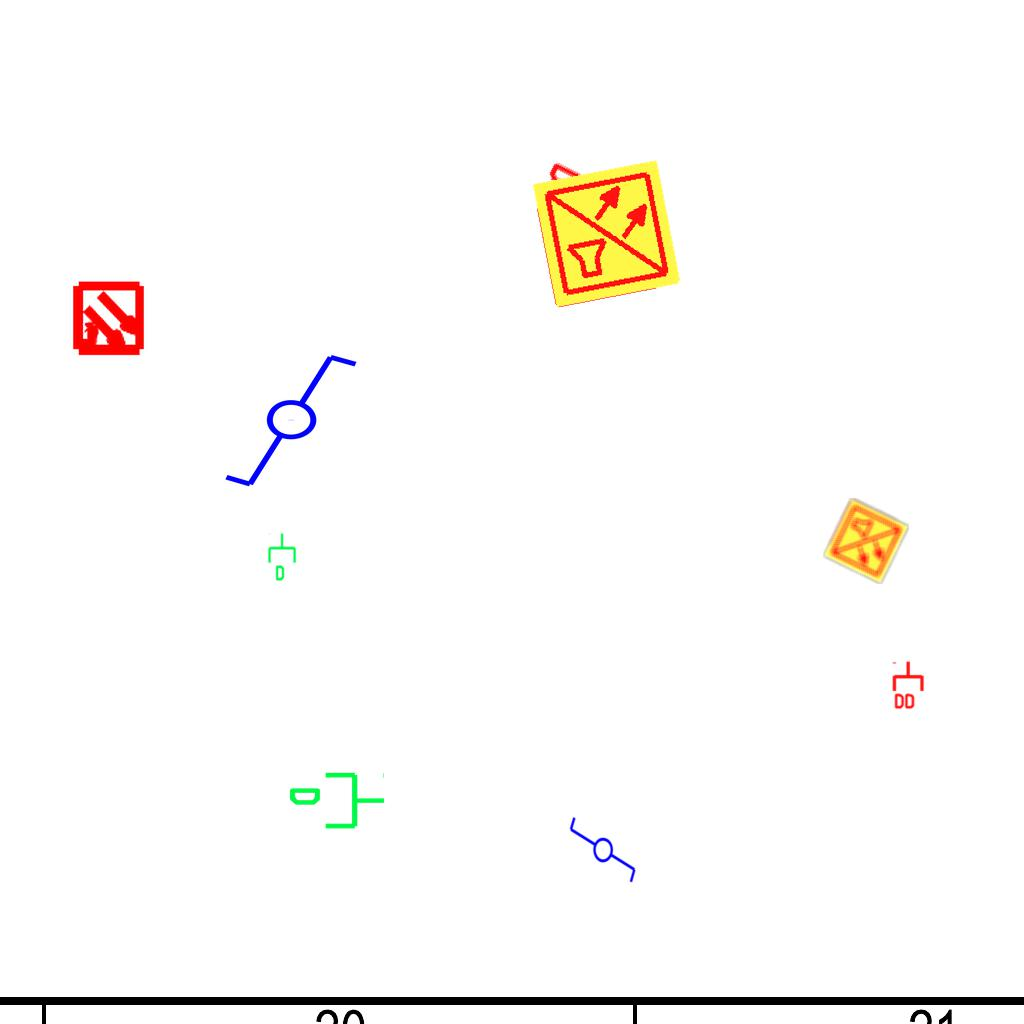Datenanschluss_einfach: (287, 768, 387, 837), (266, 532, 300, 582)
Datenanschluss_zweifach: (523, 154, 646, 263), (892, 660, 926, 711)
OKW_Multisensormelder_(Kombination_optischer_Rauch-Kahlenmonoxid_Waerme-Melder): (529, 156, 685, 312), (821, 496, 911, 586)
OT_Multisensormelder_(Kombination_RMO_WMD): (52, 264, 165, 377)
Wechselschalter: (221, 350, 378, 494), (566, 815, 638, 893)
